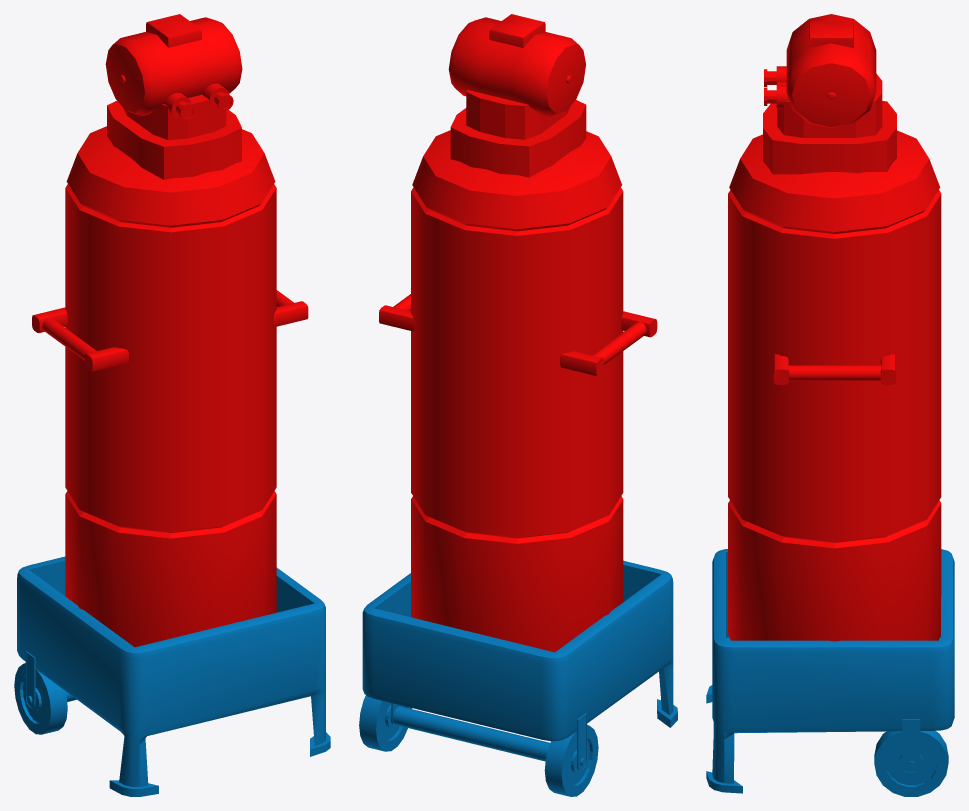
The model's file is Air_Compressor.fbx.
The picture shows the model from 3 angles, left to right: view 1: azimuth 30°, elevation 25°; view 2: azimuth 150°, elevation 25°; view 3: azimuth 270°, elevation 25°; orthographic projection.
Parts seen in each view (by area): view 1: Cylinder027, Box003, Cylinder028, Wheel_007; view 2: Cylinder027, Box003, Cylinder028, Wheel_007, Wheel_006; view 3: Cylinder027, Box003, Cylinder028, Wheel_006.
Boxes of the visible parts, x1,y1,x2,y2 form: Cylinder027: (32, 126, 308, 647); Box003: (17, 556, 330, 796); Cylinder028: (105, 14, 242, 179); Wheel_007: (14, 651, 67, 734); Cylinder027: (379, 130, 657, 652); Box003: (362, 560, 677, 767); Cylinder028: (448, 14, 586, 177); Wheel_007: (544, 713, 598, 796); Wheel_006: (359, 695, 412, 751); Cylinder027: (728, 130, 941, 641); Box003: (706, 549, 954, 793); Cylinder028: (763, 14, 896, 174); Wheel_006: (874, 719, 948, 796).
Bounding box in the file's own units: 0.4384 × 0.4316 × 1.38.
